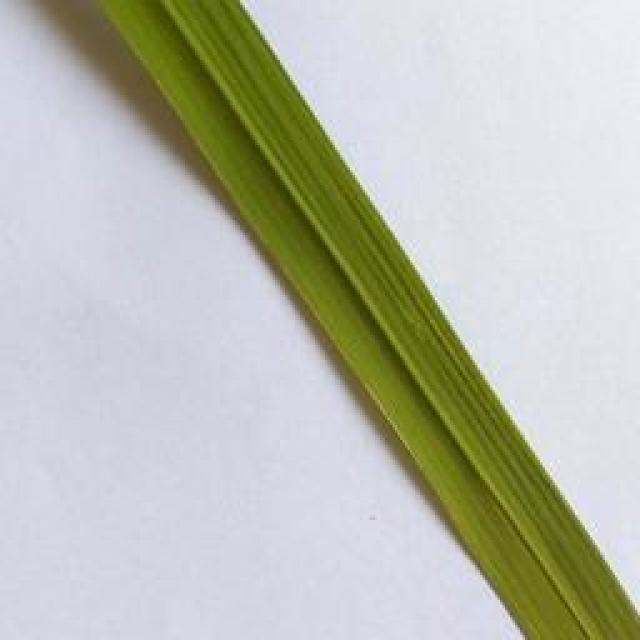Healthy-Plant: (98, 3, 492, 431)
